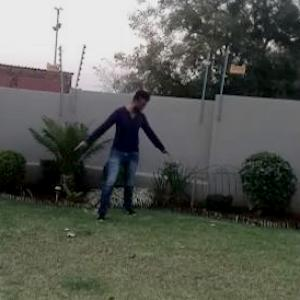land: (69, 85, 180, 230)
